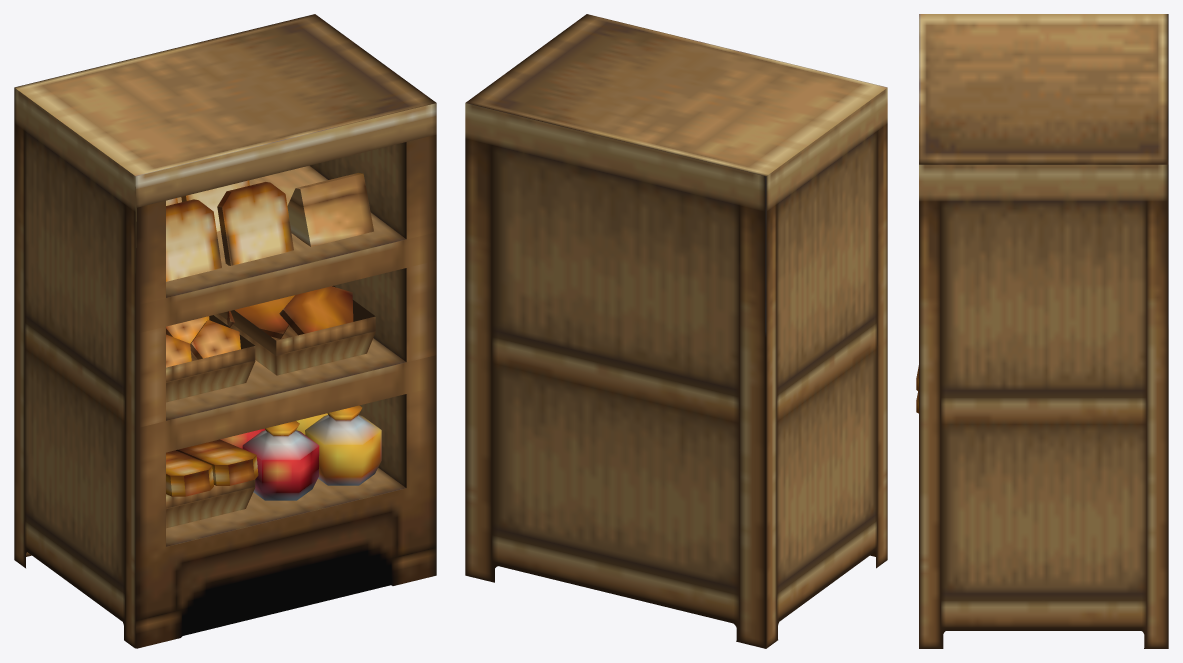
Rendered from Inside_Poly_Shelf_09.obj.
The picture shows the model from 3 angles, left to right: view 1: azimuth 30°, elevation 25°; view 2: azimuth 150°, elevation 25°; view 3: azimuth 270°, elevation 25°; orthographic projection. The views are drawn at different scales.
Visible parts, largest first — view 1: Cube.006; view 2: Cube.006; view 3: Cube.006.
Boxes of the visible parts, <box> form: Cube.006: <box>14,14,436,648</box>; Cube.006: <box>465,14,887,648</box>; Cube.006: <box>916,14,1168,648</box>.
Size of the model in its own units: 1 by 1.5 by 0.7074.
1 material, 1 textured.
